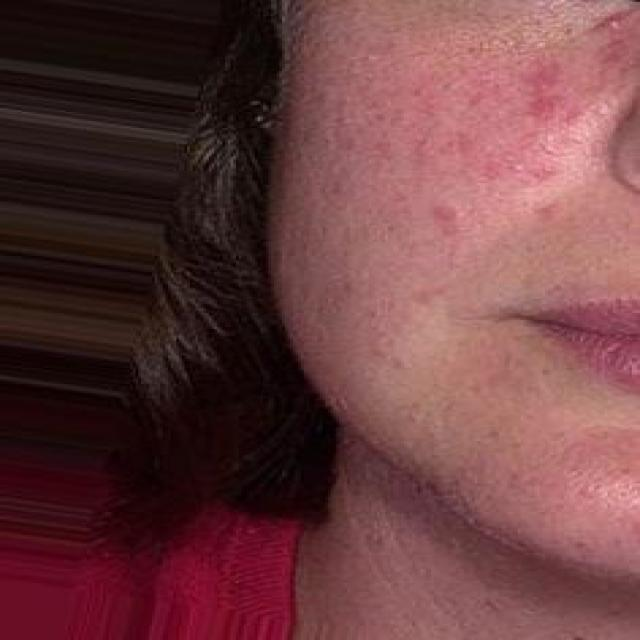Rosacea: (286, 36, 579, 328)
